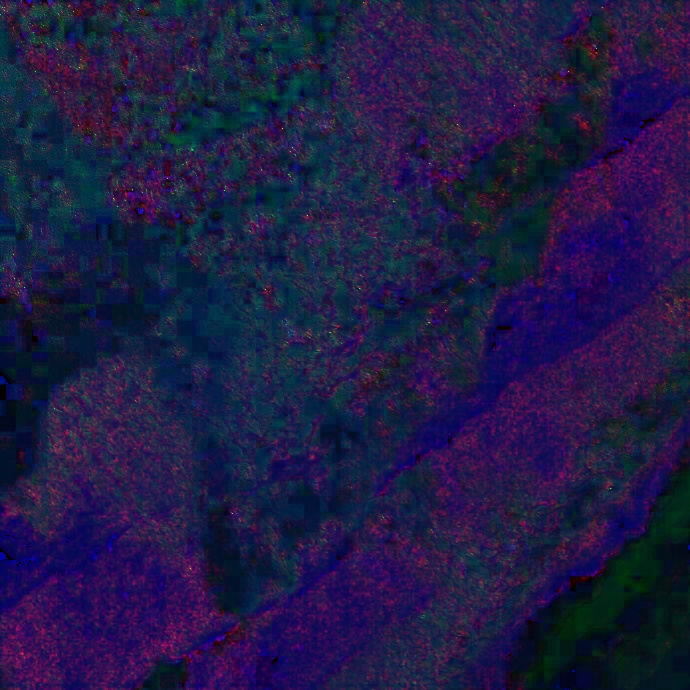rip_current: (132, 251, 370, 593)
